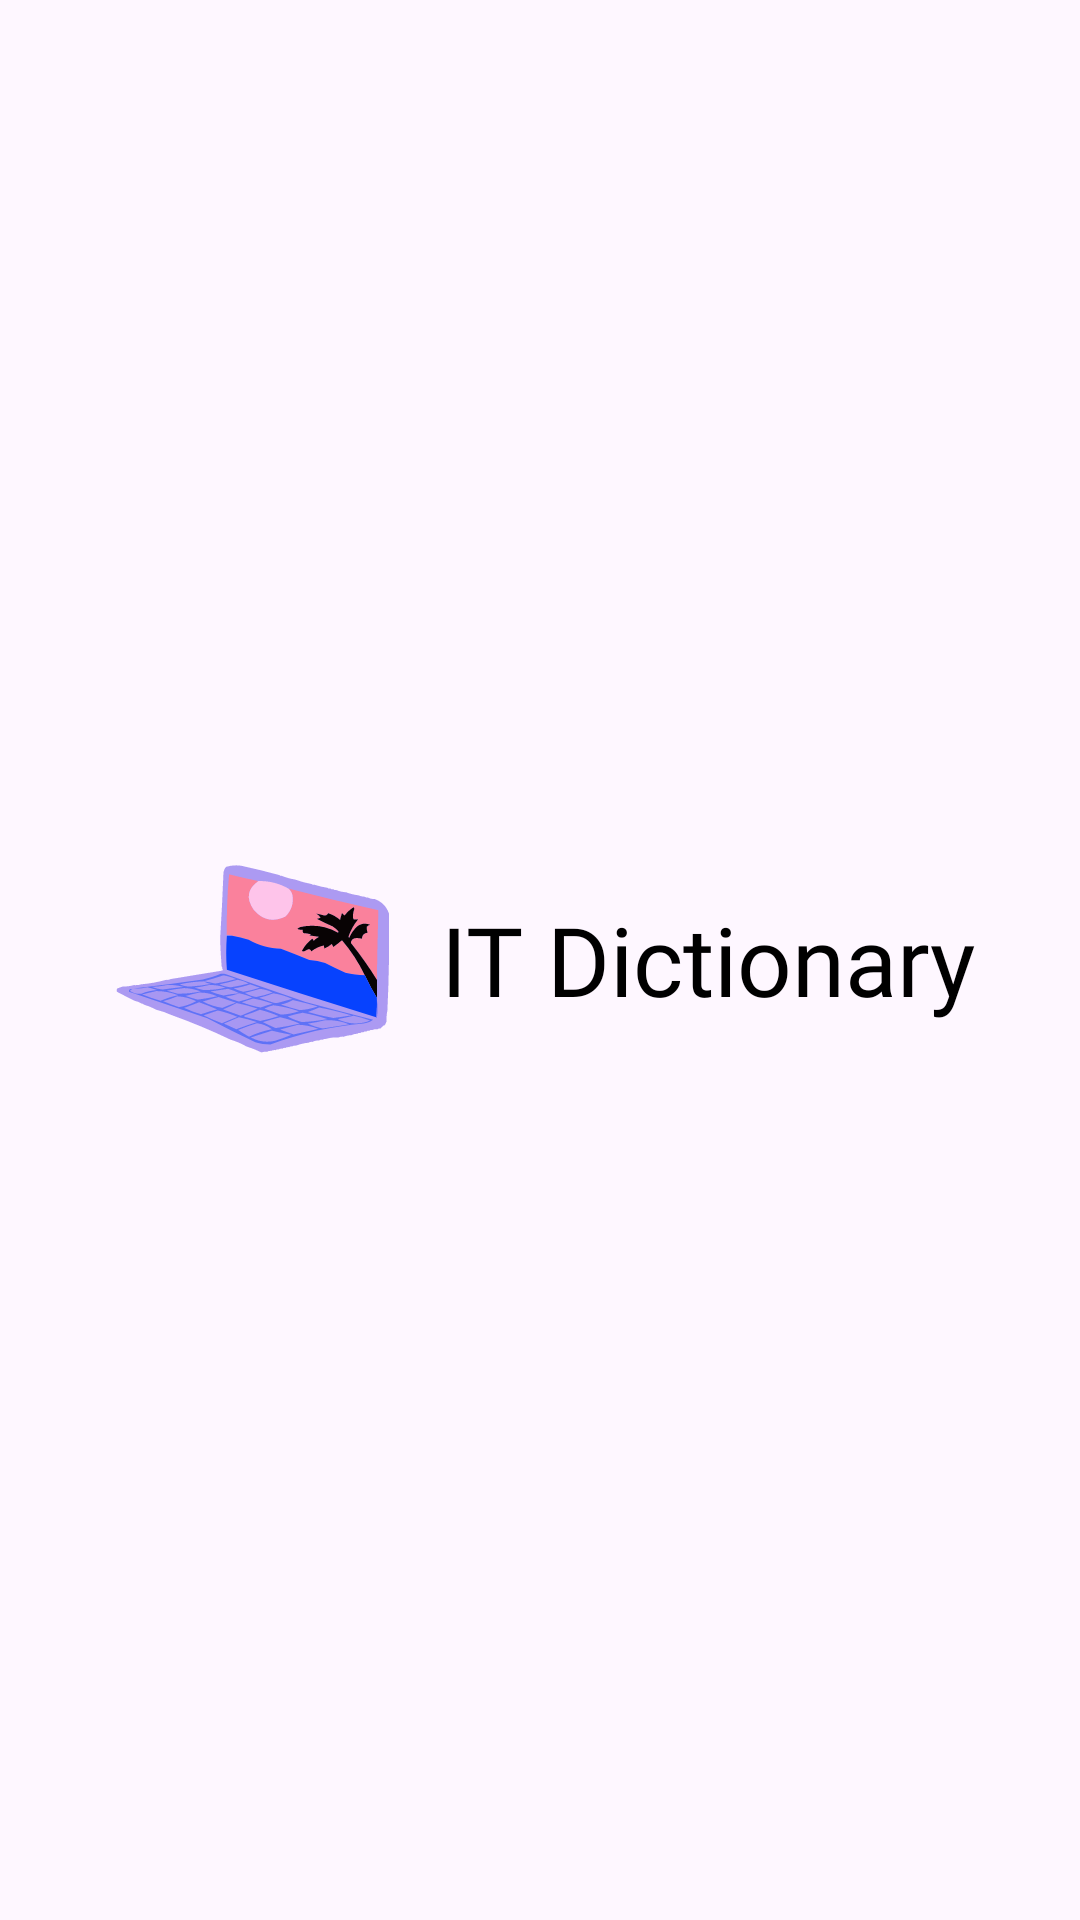

Point at icon controls on the screen. Image size 1080px x 1920px, points as point (x, y).
laptop: point (253, 959)
